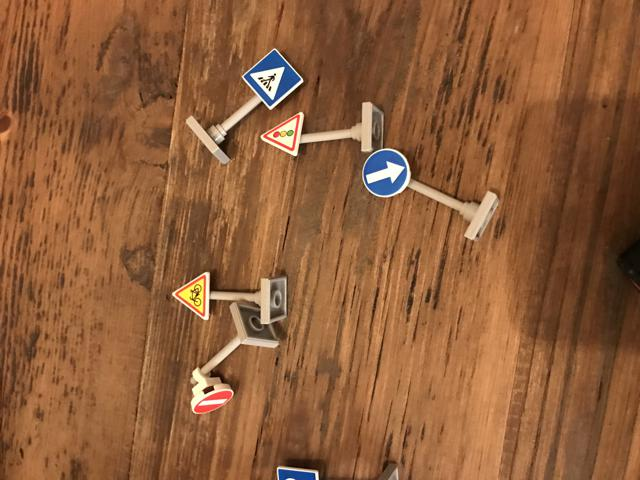fahrtrichtung rechts: (360, 148, 411, 198)
fußgängerüberweg: (240, 48, 304, 111)
lichtzeichenanlage: (258, 111, 308, 159)
radfahrer: (170, 272, 214, 322)
verbot der einfahrt: (194, 384, 237, 417)
